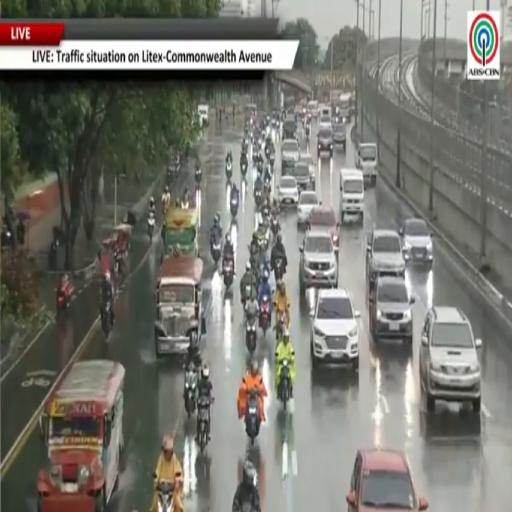car: (420, 307, 482, 412), (346, 448, 428, 511), (310, 288, 360, 371), (369, 277, 414, 346), (366, 229, 405, 292), (299, 231, 338, 292), (399, 218, 433, 267), (307, 205, 339, 251), (340, 169, 364, 223), (355, 142, 378, 186), (297, 190, 320, 225), (289, 160, 315, 190), (278, 176, 299, 204), (334, 93, 351, 122), (282, 139, 299, 167), (318, 127, 333, 157), (300, 153, 316, 181), (333, 123, 345, 152), (283, 116, 296, 139), (198, 104, 209, 127), (307, 101, 318, 118), (319, 115, 332, 129), (320, 105, 332, 118)
jeepney: (38, 360, 125, 511), (155, 255, 205, 357), (162, 208, 199, 255)
motorcycle: (245, 391, 260, 445), (184, 364, 197, 418), (197, 397, 209, 453), (279, 359, 290, 410), (156, 480, 174, 511), (56, 282, 73, 313), (100, 301, 112, 338), (259, 296, 270, 335), (246, 318, 256, 355), (56, 288, 70, 312), (0, 227, 14, 250), (223, 258, 233, 289), (257, 227, 269, 252), (114, 251, 124, 278), (276, 312, 285, 342), (211, 238, 221, 264), (274, 258, 285, 281), (270, 215, 280, 237), (148, 212, 155, 242), (242, 285, 251, 307), (230, 196, 238, 218), (254, 188, 262, 207), (195, 169, 202, 188), (264, 176, 271, 194), (256, 159, 263, 176), (253, 140, 258, 163), (226, 162, 232, 181), (241, 162, 247, 178), (181, 199, 190, 209), (270, 153, 275, 167), (265, 147, 270, 159), (272, 118, 276, 129)
